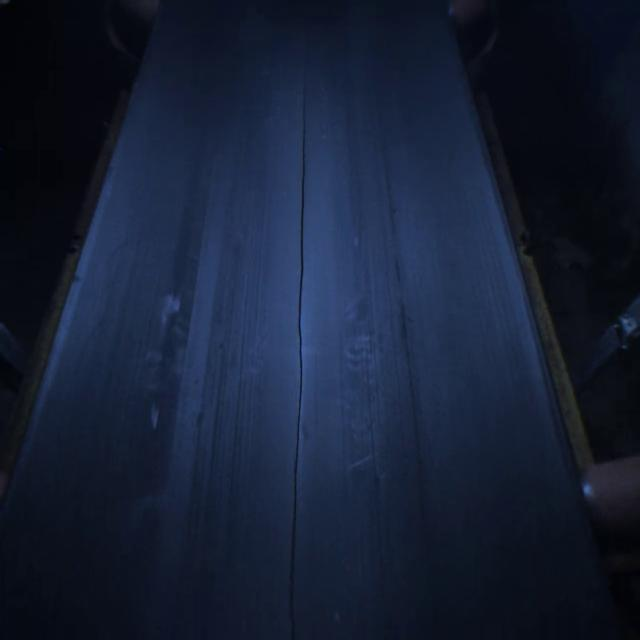Tear: (281, 57, 313, 639)
